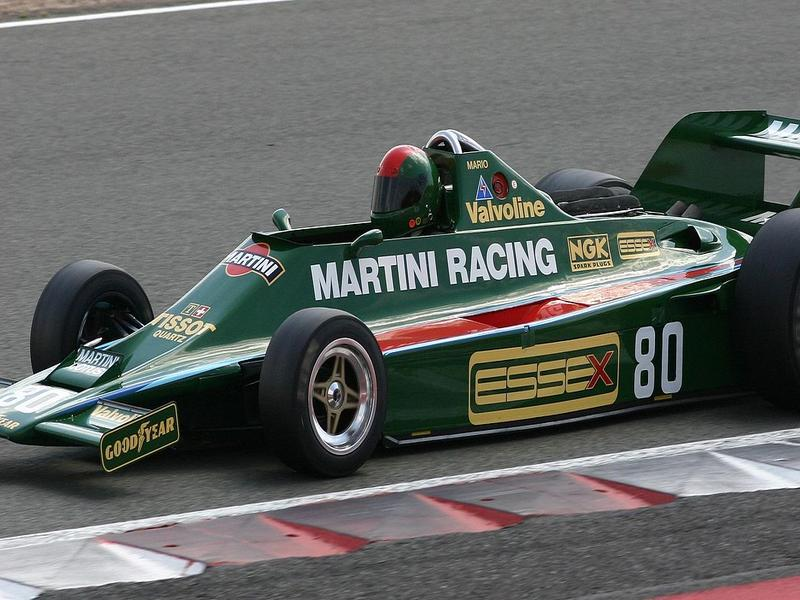racecar: (23, 107, 800, 470)
